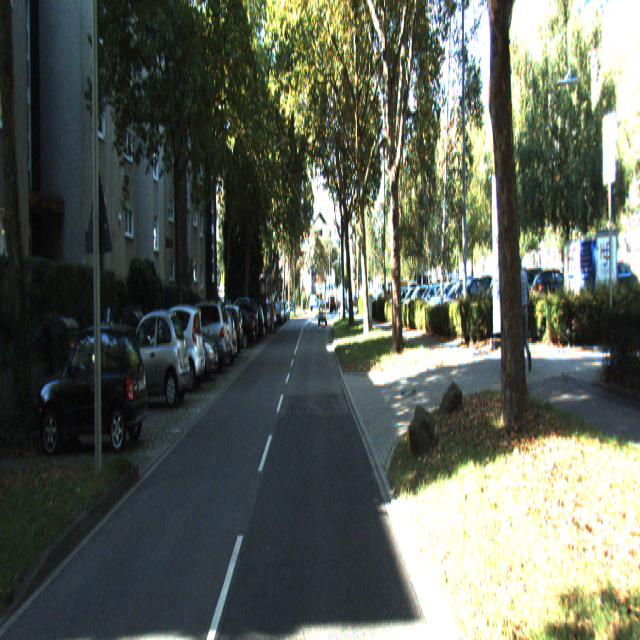Car: (34, 325, 149, 462), (114, 310, 192, 416), (139, 305, 208, 396), (171, 300, 232, 378), (190, 308, 238, 371), (208, 303, 243, 359), (217, 311, 255, 355), (226, 297, 258, 346), (232, 299, 266, 344), (238, 300, 270, 340)
